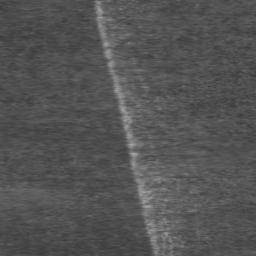Bright scratch: (95, 0, 159, 256)
